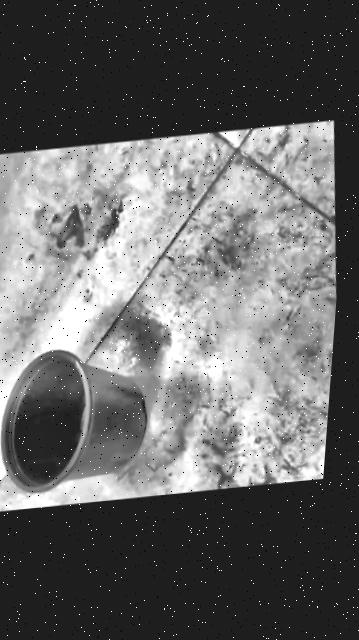pot: (0, 342, 156, 496)
